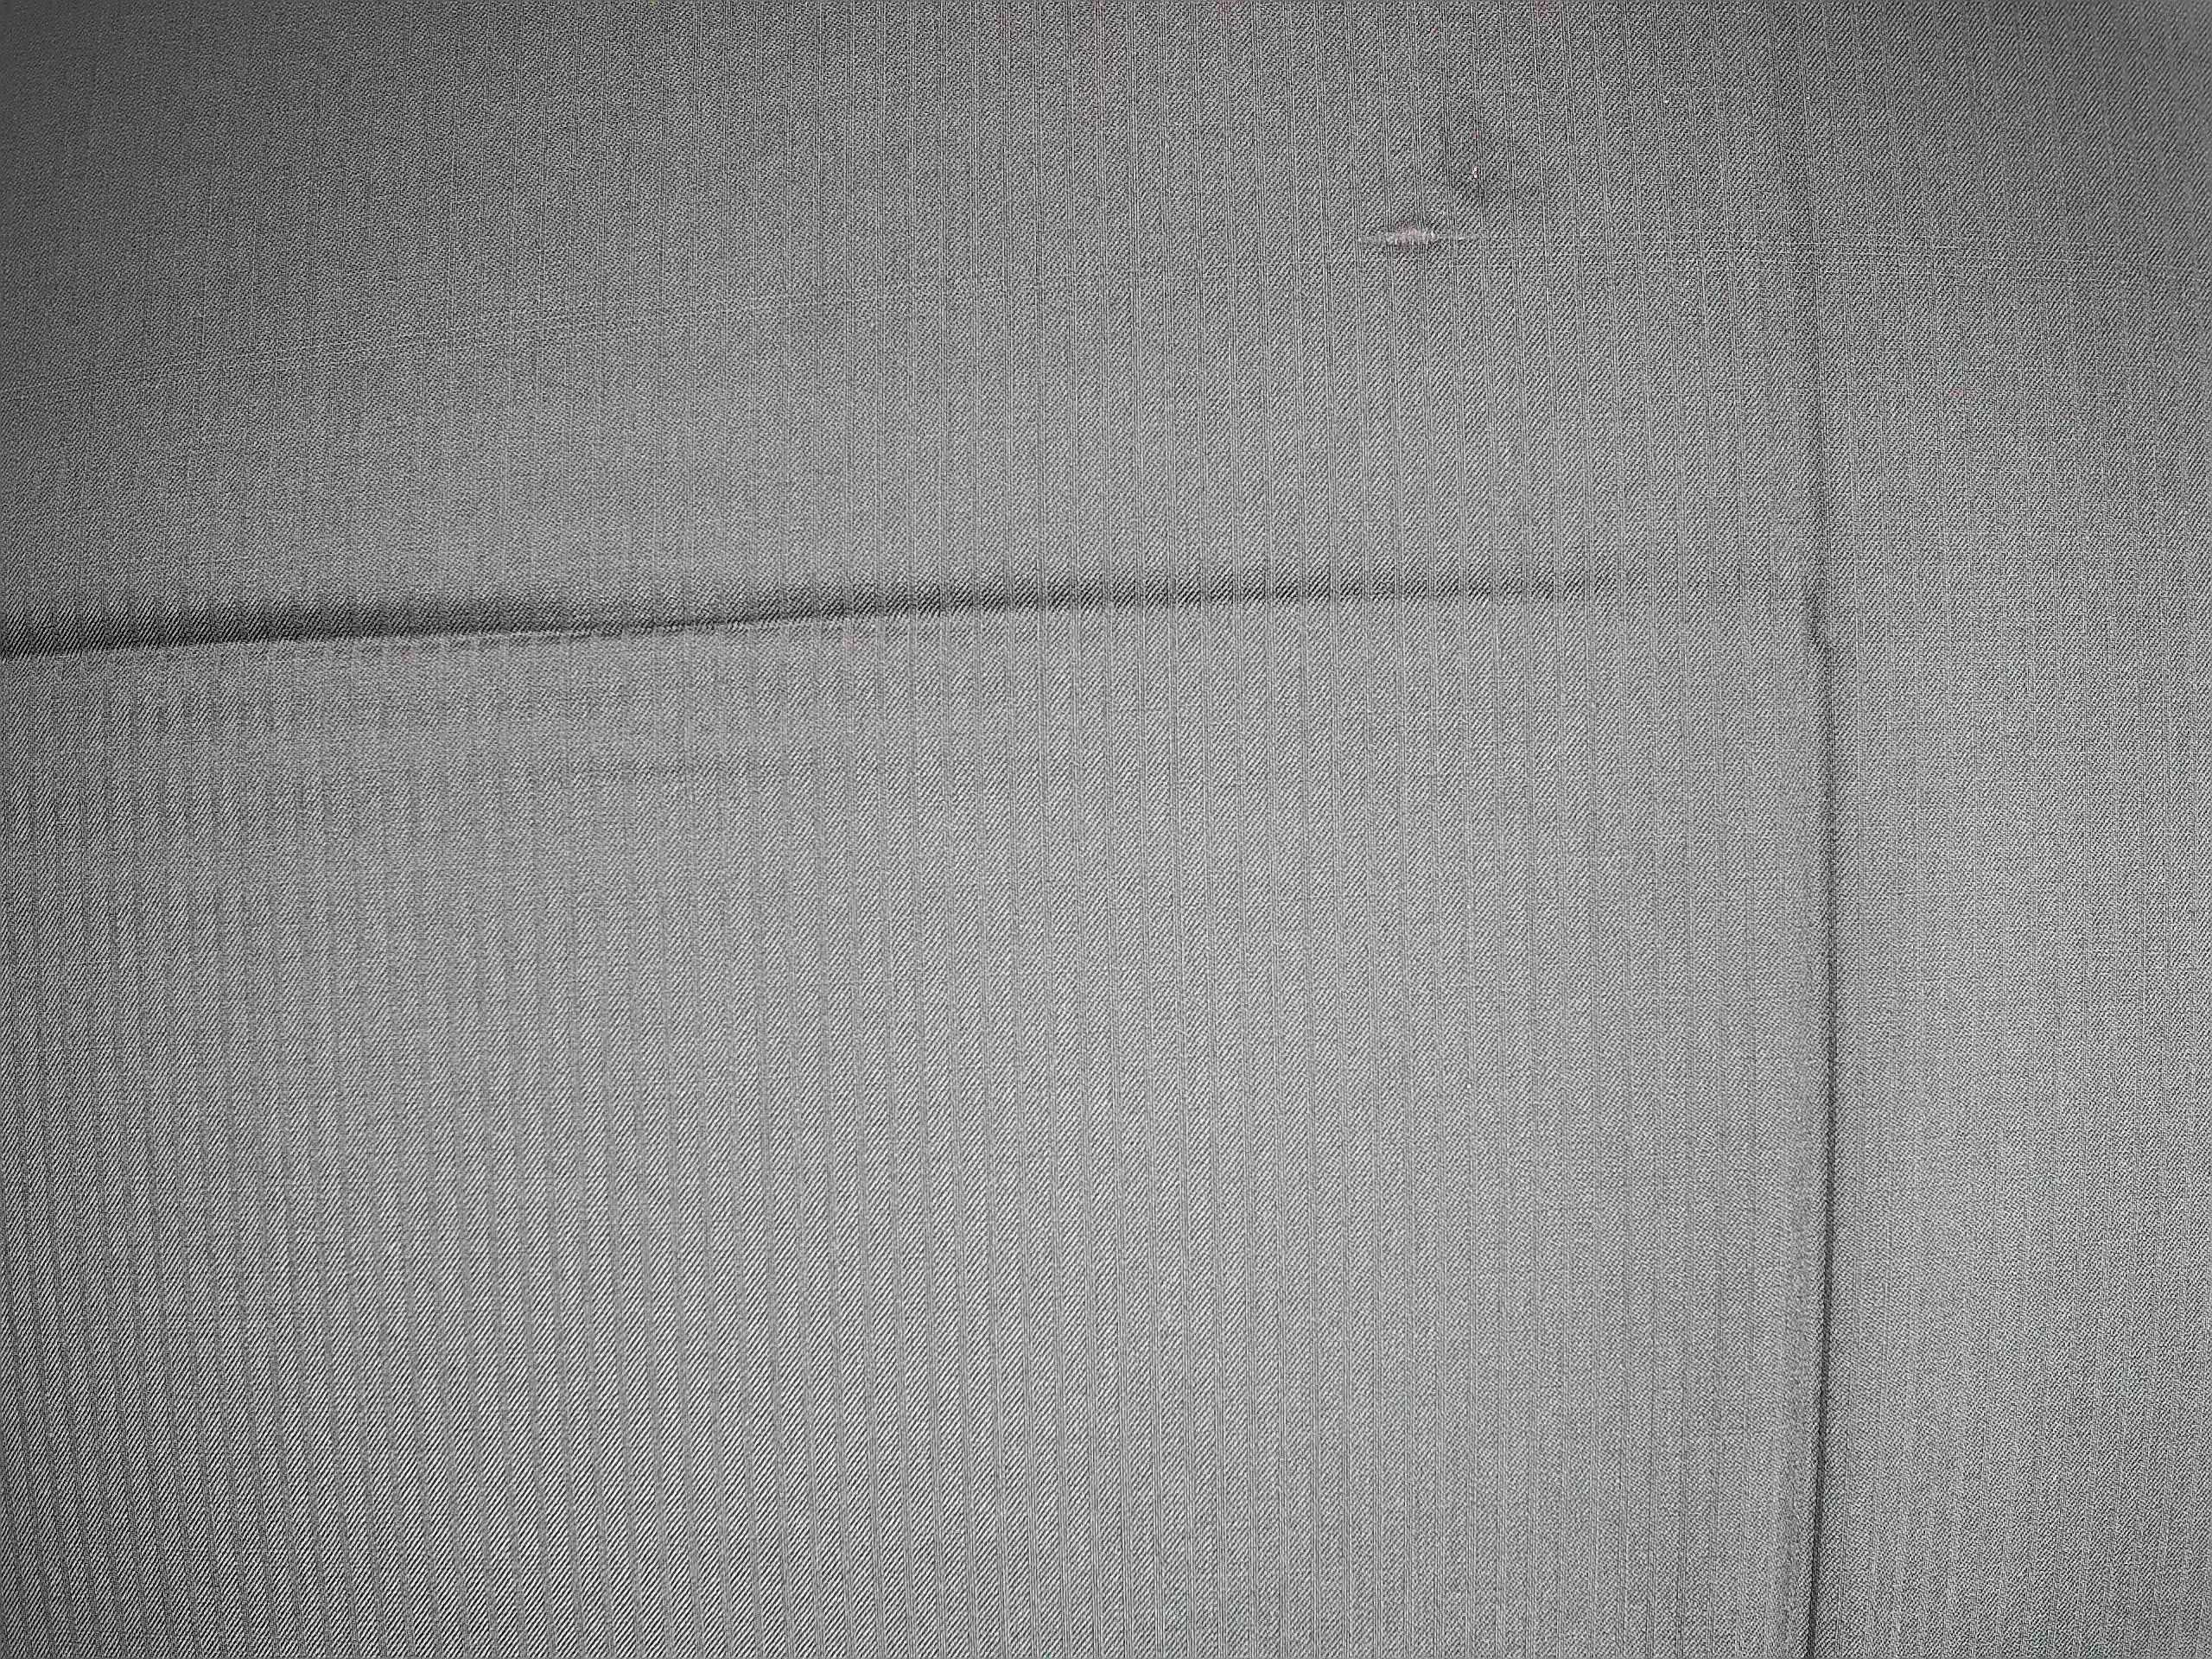others: (1329, 195, 1501, 272)
